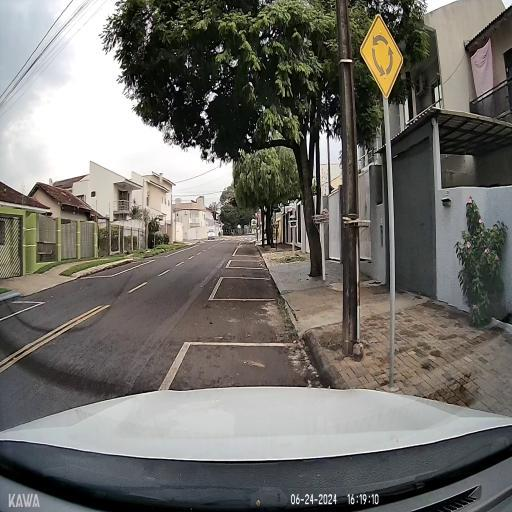A-12: (360, 14, 402, 98)
